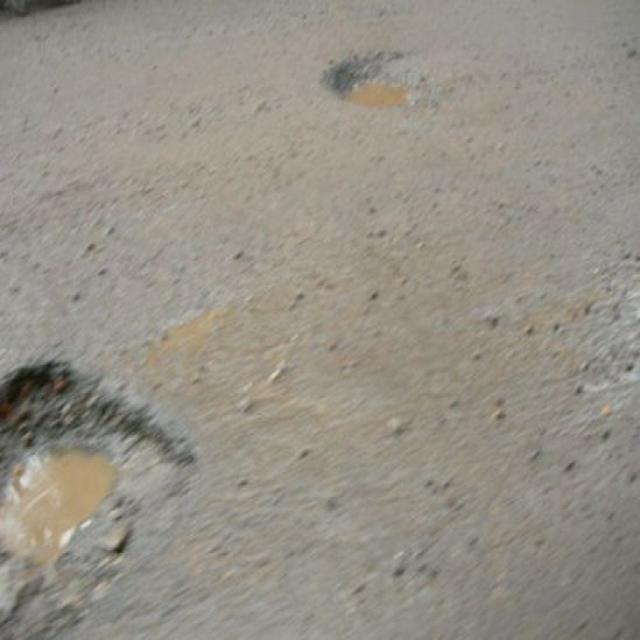Pothole: (2, 346, 203, 575), (319, 38, 423, 113)
